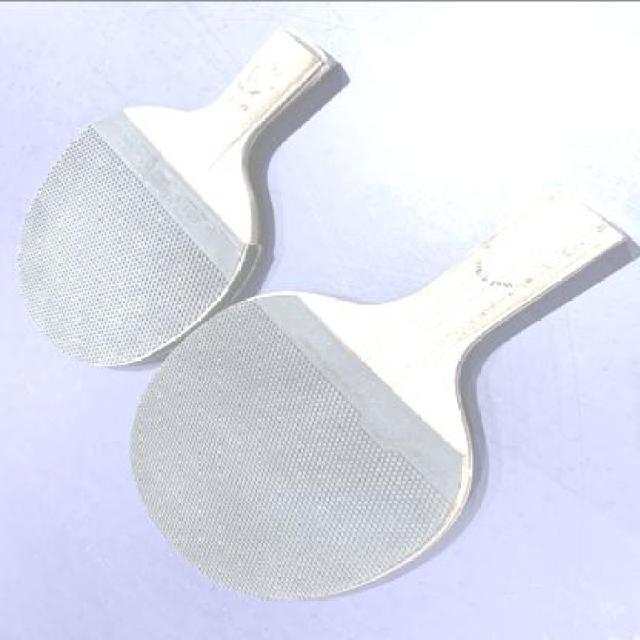table_tennis_racket: (132, 282, 482, 604), (11, 97, 264, 371)
